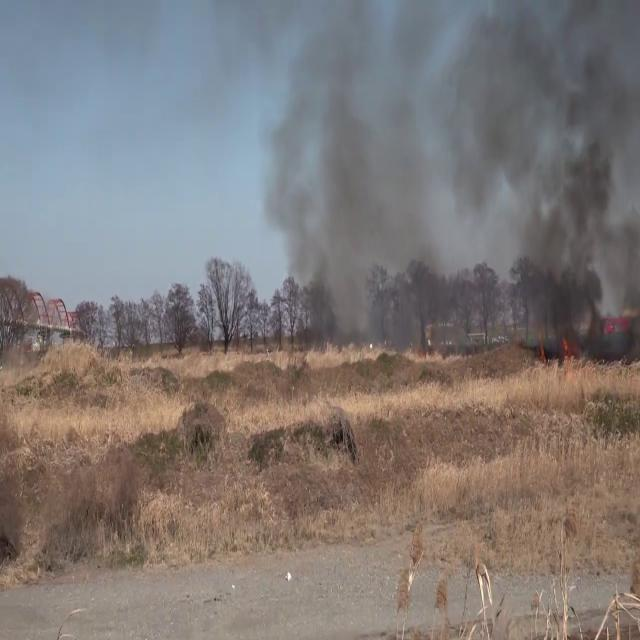Smoke: (255, 1, 459, 347), (445, 0, 640, 344)
